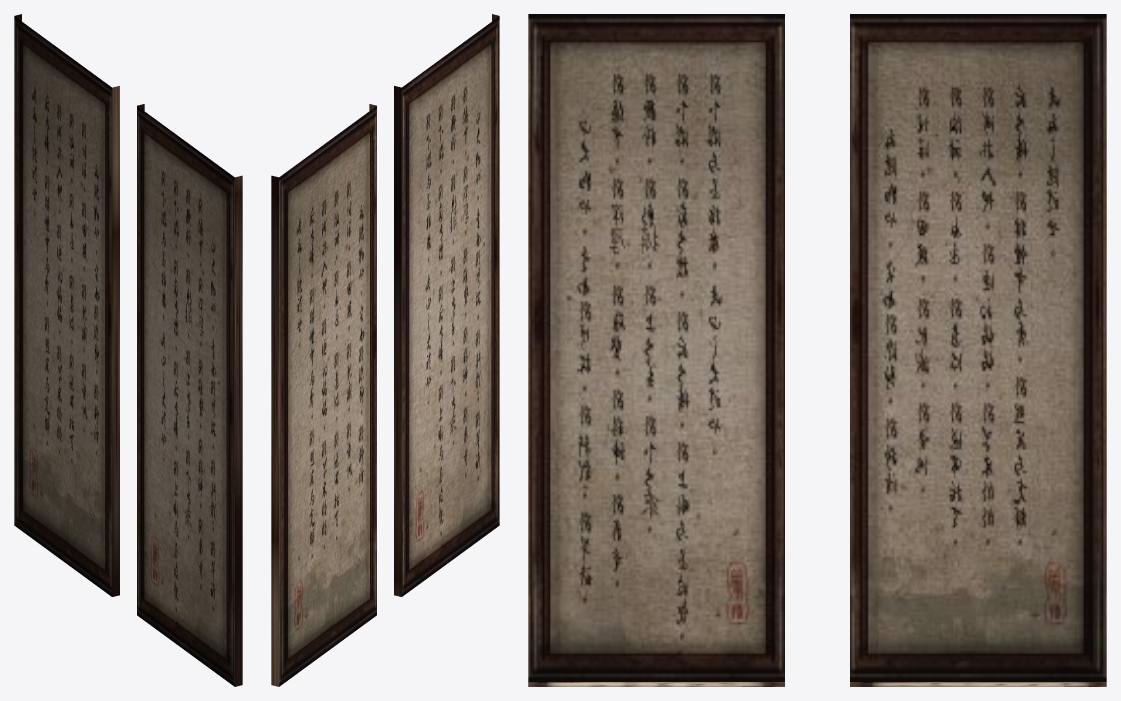
The picture shows the model from 3 angles, left to right: view 1: azimuth 30°, elevation 25°; view 2: azimuth 150°, elevation 25°; view 3: azimuth 270°, elevation 25°; orthographic projection. The views are drawn at different scales.
Visible parts, largest first — view 1: Box21230; view 2: Box21230; view 3: Box21230.
Part boxes in pixels (x1,y1,x2,y2): Box21230: [14, 14, 242, 686]; Box21230: [271, 14, 499, 686]; Box21230: [528, 14, 1106, 686].
Bounding box in the file's own units: 0.5 × 30.95 × 24.29.
